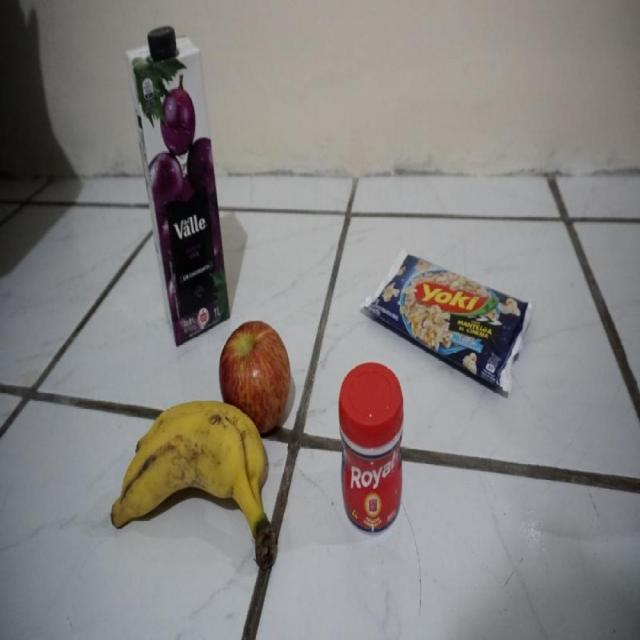Yeast: (340, 360, 404, 532)
